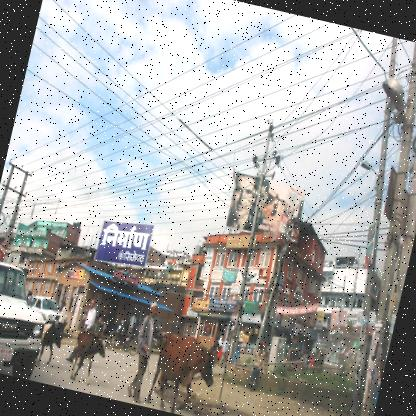Car: (0, 258, 58, 381), (23, 296, 70, 331)
